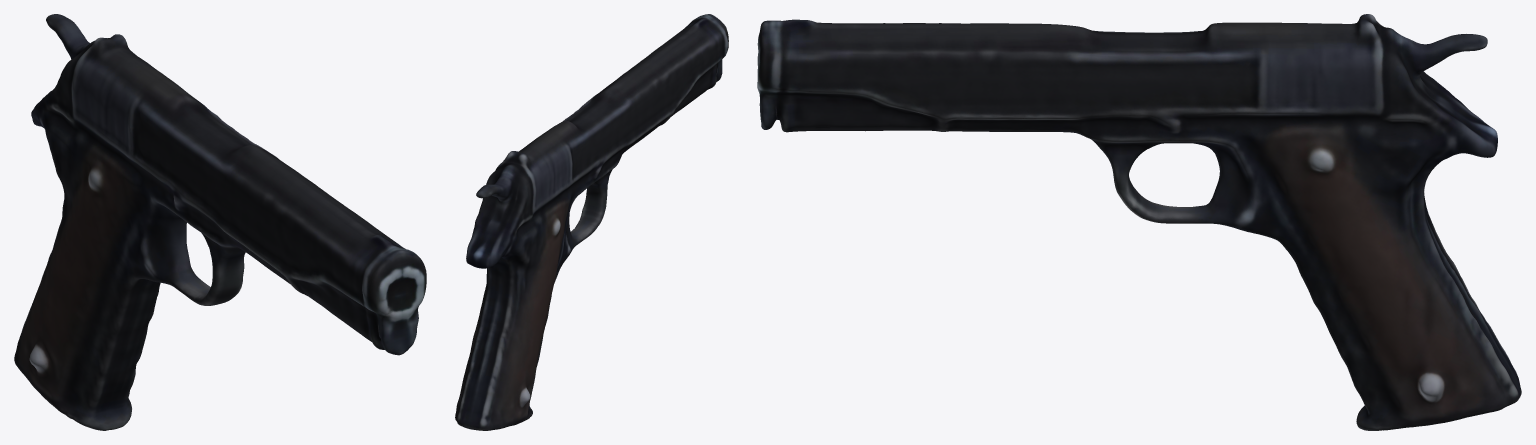
File: 90f655308dc9_A_pistol_with_a_dark_brown_l_0_glb.glb
The picture shows the model from 3 angles, left to right: view 1: azimuth 30°, elevation 25°; view 2: azimuth 150°, elevation 25°; view 3: azimuth 270°, elevation 25°; orthographic projection. The views are drawn at different scales.
Parts seen in each view (by area): view 1: world; view 2: world; view 3: world.
Boxes of the visible parts, x1,y1,x2,y2 form: world: (14,14,426,430); world: (455,14,728,430); world: (757,14,1521,430).
Size of the model in its own units: 0.0805 by 0.3123 by 0.5332.
Materials: 1 (1 with a texture image).
